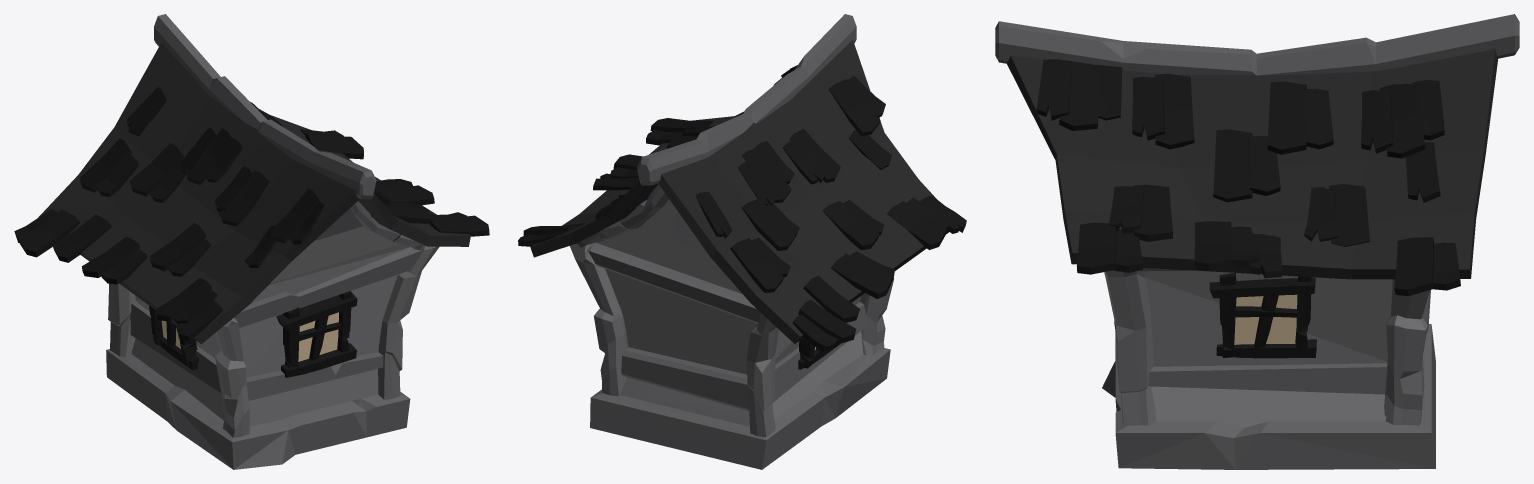
Rendered from WF_LP_HT_Build_HouseRoom.003.fbx.
3 views of the same model, side by side, from view 1: azimuth 30°, elevation 25°; view 2: azimuth 150°, elevation 25°; view 3: azimuth 270°, elevation 25° (orthographic). The views are drawn at different scales.
Visible parts, largest first — view 1: WF_LP_HT_Build_HouseRoom.003; view 2: WF_LP_HT_Build_HouseRoom.003; view 3: WF_LP_HT_Build_HouseRoom.003.
Part boxes in pixels (left/top/right/bottom): WF_LP_HT_Build_HouseRoom.003: left=14, top=14, right=489, bottom=469; WF_LP_HT_Build_HouseRoom.003: left=518, top=14, right=966, bottom=469; WF_LP_HT_Build_HouseRoom.003: left=995, top=14, right=1519, bottom=469.
Size of the model in its own units: 5.37 by 4.9 by 5.83.
